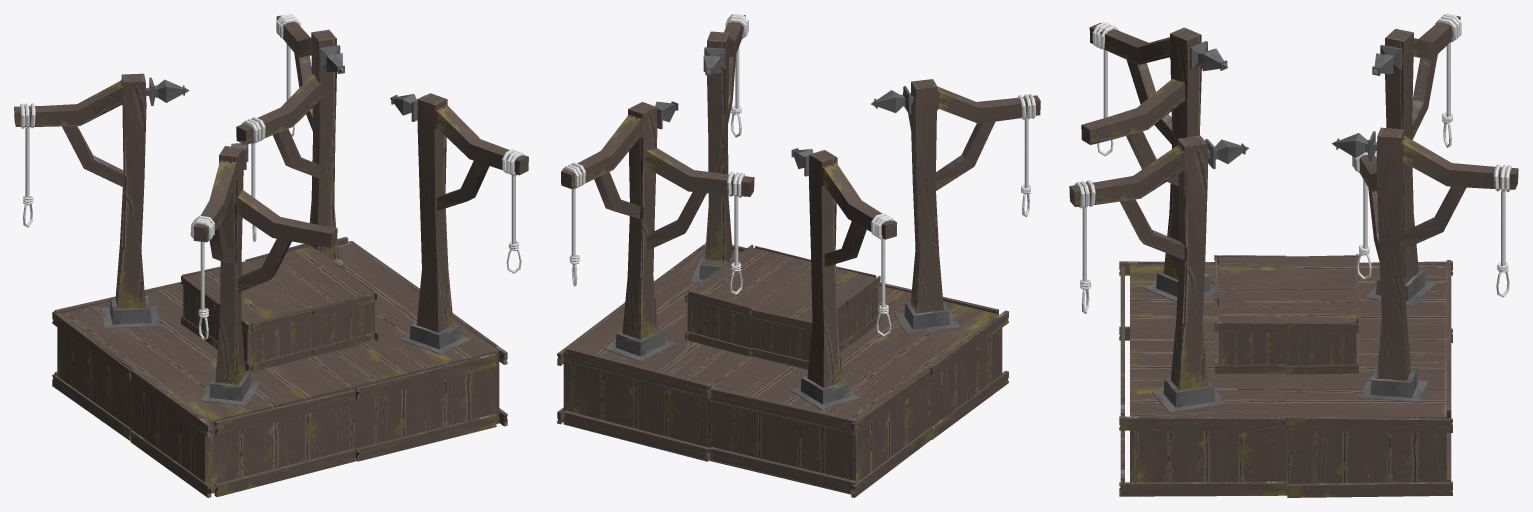
The model's file is SM_Potence.fbx.
3 renders of one model, left to right at view 1: azimuth 30°, elevation 25°; view 2: azimuth 150°, elevation 25°; view 3: azimuth 270°, elevation 25°, orthographic. The views are drawn at different scales.
Parts seen in each view (by area): view 1: Object376, Object392, Circle017, Circle020, Circle019, Circle018, Object390, Object388, Object387, Object391, Object389; view 2: Object376, Object392, Circle018, Circle020, Circle019, Circle017, Object391, Object387, Object390, Object389, Object388; view 3: Object376, Object392, Circle018, Circle017, Circle020, Circle019, Object388, Object389, Object390, Object387, Object391.
Part boxes in pixels (x1,y1,x2,y2): Object376: (52, 237, 507, 497); Object392: (181, 243, 378, 371); Circle017: (390, 93, 528, 354); Circle020: (193, 141, 337, 405); Circle019: (14, 73, 189, 328); Circle018: (236, 15, 345, 269); Object390: (20, 103, 35, 227); Object388: (502, 149, 524, 273); Object387: (190, 216, 214, 340); Object391: (242, 117, 265, 241); Object389: (276, 14, 300, 136); Object376: (557, 243, 1008, 497); Object392: (685, 244, 880, 369); Circle018: (561, 101, 754, 361); Circle020: (871, 79, 1040, 333); Circle019: (789, 148, 897, 409); Circle017: (690, 14, 745, 283); Object391: (727, 171, 745, 294); Object387: (1018, 93, 1035, 216); Object390: (871, 213, 894, 336); Object389: (562, 162, 585, 286); Object388: (725, 14, 748, 137); Object376: (1119, 260, 1452, 497); Object392: (1214, 254, 1358, 374); Circle018: (1332, 127, 1518, 402); Circle017: (1069, 135, 1248, 412); Circle020: (1081, 23, 1227, 302); Circle019: (1365, 14, 1460, 306); Object388: (1074, 180, 1095, 313); Object389: (1494, 164, 1511, 297); Object390: (1435, 14, 1461, 147); Object387: (1092, 22, 1118, 156); Object391: (1352, 152, 1376, 279).
Bounding box in the file's own units: 548 × 482 × 584.
